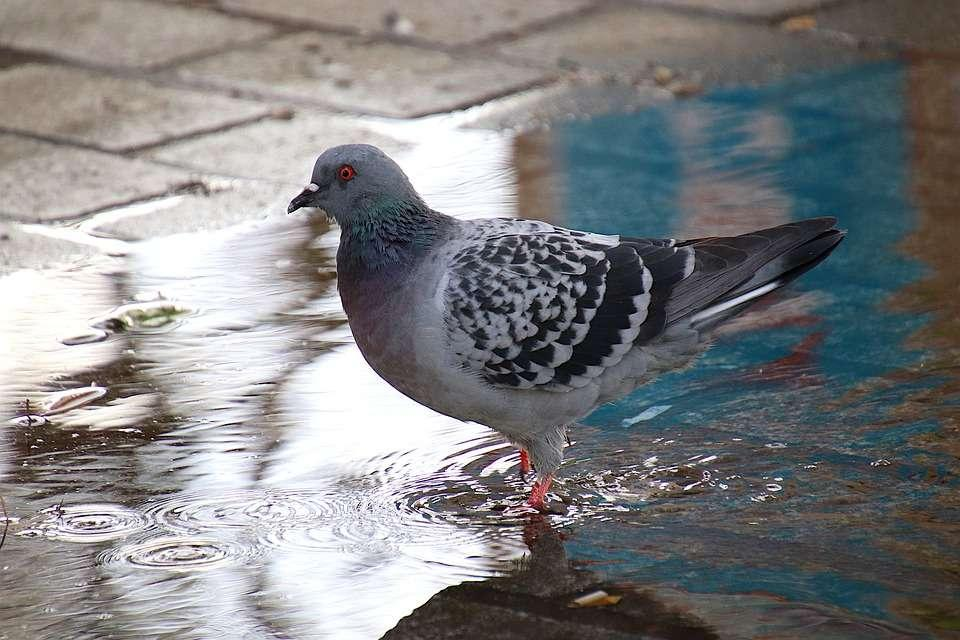Flying Rat: (299, 141, 830, 531)
